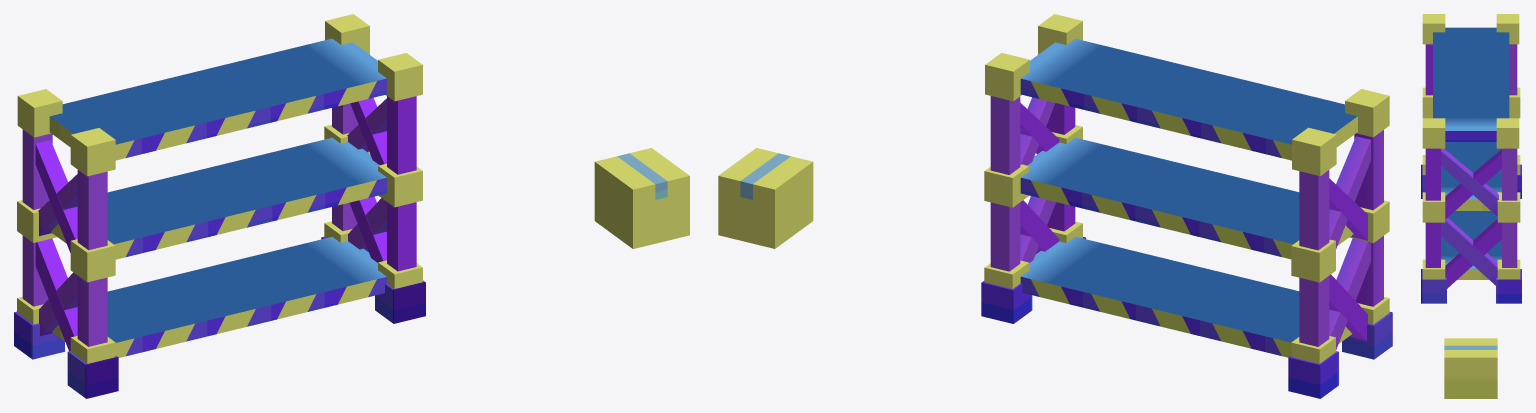
File: Blue_Shelf.fbx
The picture shows the model from 3 angles, left to right: view 1: azimuth 30°, elevation 25°; view 2: azimuth 150°, elevation 25°; view 3: azimuth 270°, elevation 25°; orthographic projection. The views are drawn at different scales.
Parts seen in each view (by area): view 1: Blue_Shelf, Blue_Box; view 2: Blue_Shelf, Blue_Box; view 3: Blue_Shelf, Blue_Box.
Part boxes in pixels (x1=…): Blue_Shelf: x1=14, y1=14, x2=425, y2=398; Blue_Box: x1=594, y1=148, x2=689, y2=248; Blue_Shelf: x1=981, y1=14, x2=1392, y2=398; Blue_Box: x1=718, y1=148, x2=813, y2=248; Blue_Shelf: x1=1421, y1=14, x2=1521, y2=303; Blue_Box: x1=1444, y1=338, x2=1497, y2=398.
Bounding box in the file's own units: 327 × 127 × 66.16.
